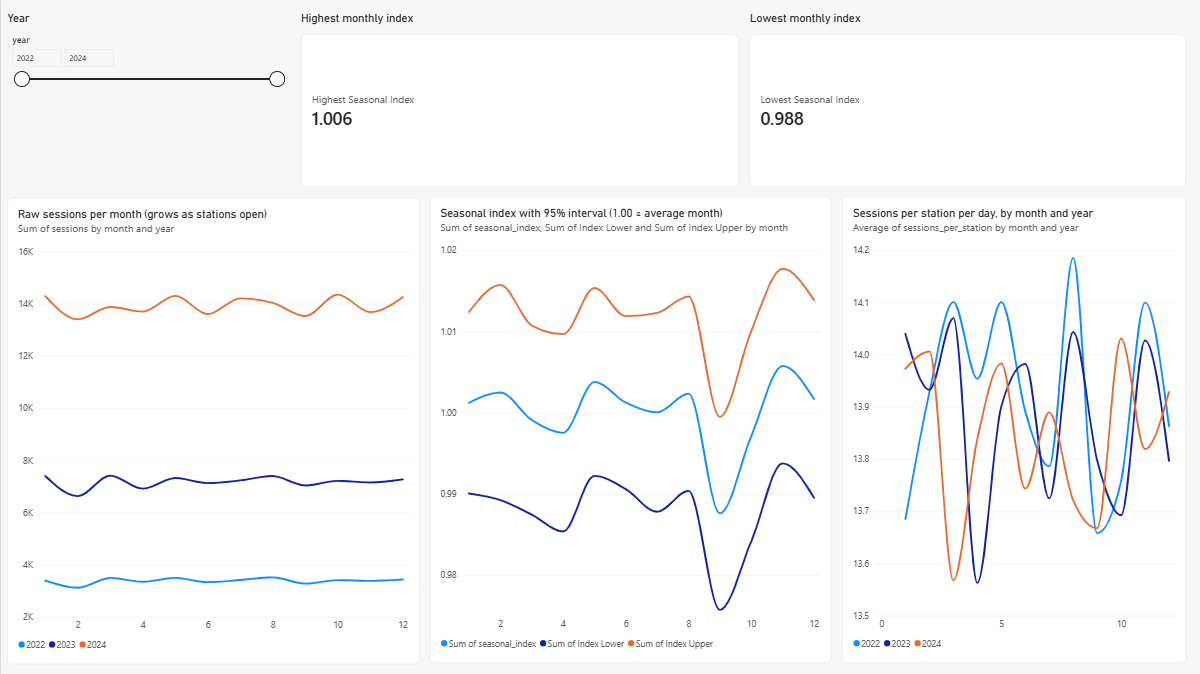

Layout of this report page (visuals, bound fields, positions):
{"tool":"powerbi","page":{"name":"Seasonal Trends","canvas":[1920,1080],"ordinal":2},"visuals":[{"type":"slicer","title":"Year","fields":{"Values":["daily_demand.year"]},"box":[10,20,448,280],"z":0},{"type":"lineChart","title":"Sessions per station per day, by month and year","fields":{"Category":["daily_demand.month"],"Series":["daily_demand.year"],"Y":["Avg(daily_demand.sessions_per_station)"]},"box":[1346,316,550,746],"z":1},{"type":"lineChart","title":"Raw sessions per month (grows as stations open)","fields":{"Category":["daily_demand.month"],"Series":["daily_demand.year"],"Y":["Sum(daily_demand.sessions)"]},"box":[10,318,660,746],"z":2},{"type":"lineChart","title":"Seasonal index with 95% interval (1.00 = average month)","fields":{"Category":["seasonal_index.month"],"Y":["Sum(seasonal_index.seasonal_index)","Sum(seasonal_index.Index Lower)","Sum(seasonal_index.Index Upper)"]},"box":[686,316,642,746],"z":3},{"type":"cardVisual","title":"Highest monthly index","fields":{"Data":["Measures (2).Highest Seasonal Index"]},"box":[480,20,700,280],"z":4},{"type":"cardVisual","title":"Lowest monthly index","fields":{"Data":["Measures (2).Lowest Seasonal Index"]},"box":[1198,20,698,280],"z":5}]}

Visuals, with their boxes in screenshot pixels (x1, y1, x2, y2), scaled from the page's 1920x1080 canvas onto the 1200x674 screenshot:
"Year" slicer: select_region(6, 12, 286, 187)
"Sessions per station per day, by month and year" lineChart: select_region(841, 197, 1185, 663)
"Raw sessions per month (grows as stations open)" lineChart: select_region(6, 198, 419, 664)
"Seasonal index with 95% interval (1.00 = average month)" lineChart: select_region(429, 197, 830, 663)
"Highest monthly index" cardVisual: select_region(300, 12, 738, 187)
"Lowest monthly index" cardVisual: select_region(749, 12, 1185, 187)
